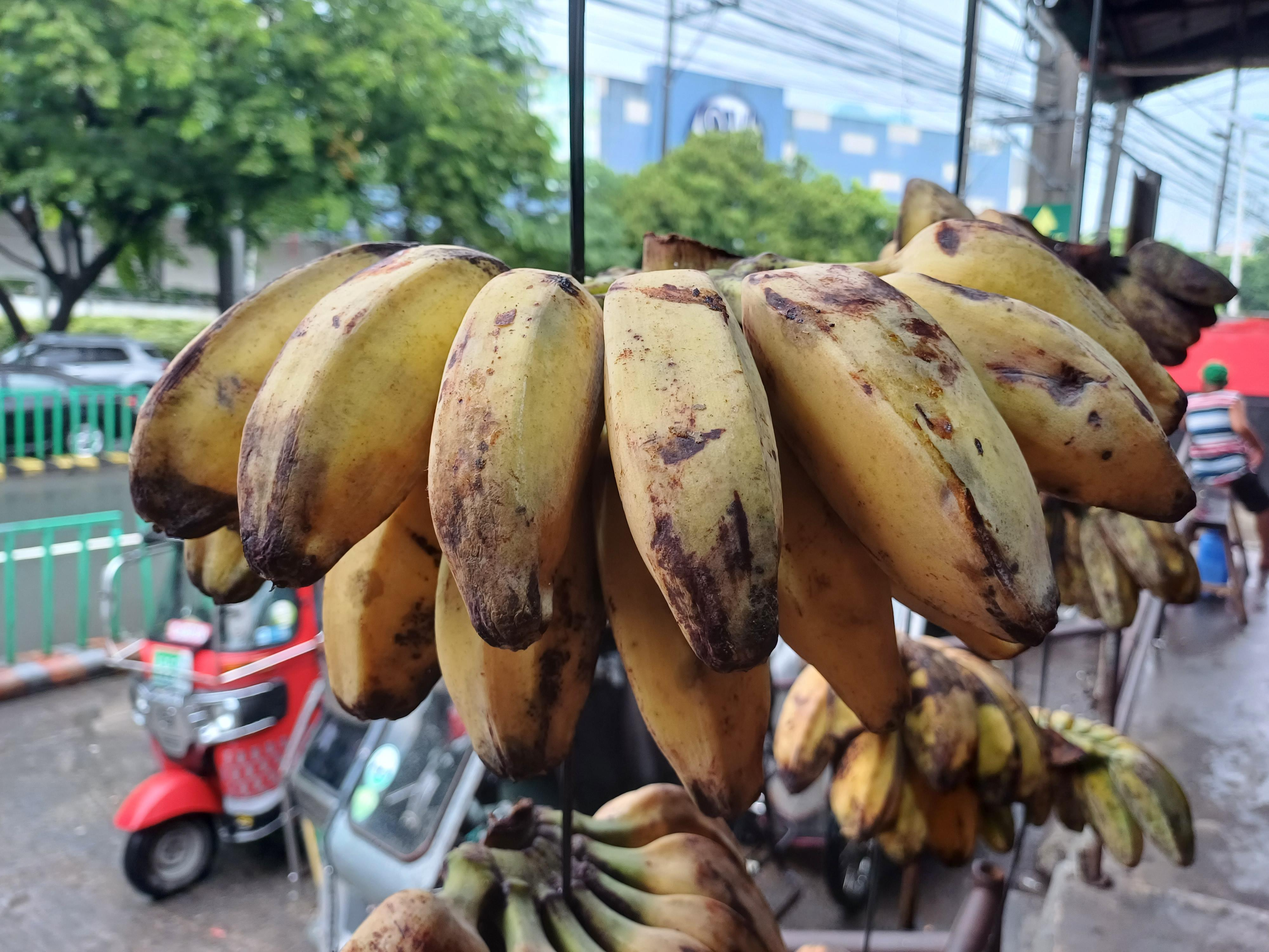ripe: (129, 225, 1198, 822), (771, 631, 1056, 868), (592, 782, 791, 952)
